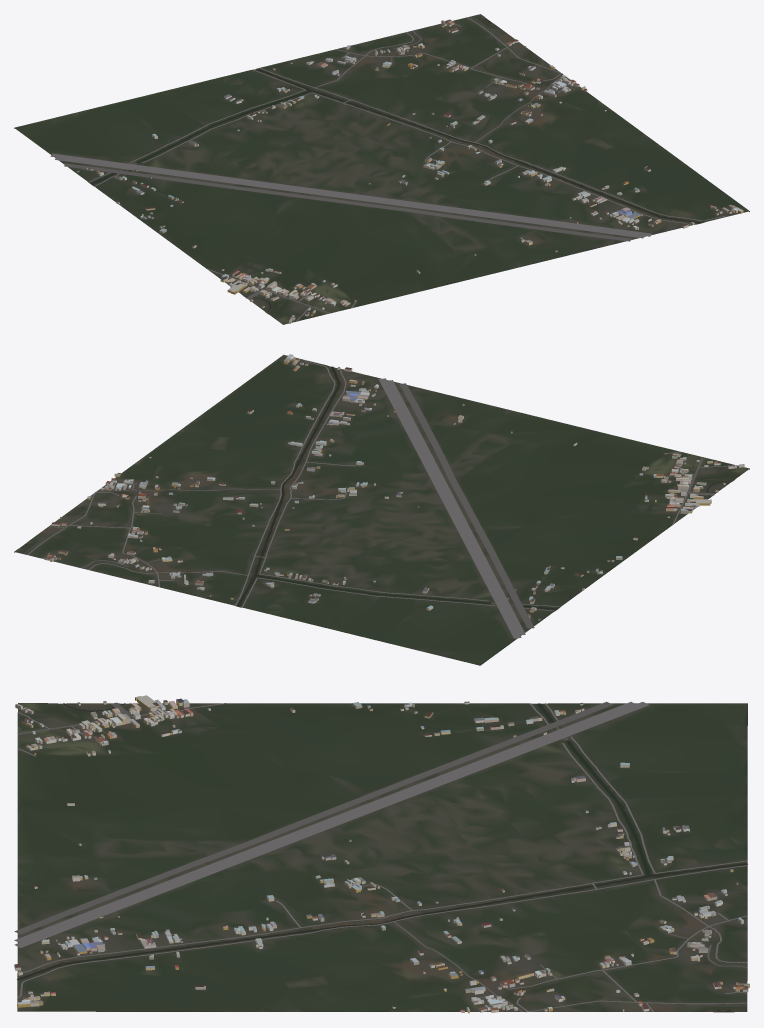
The picture shows the model from 3 angles, top to bottom: view 1: azimuth 30°, elevation 25°; view 2: azimuth 150°, elevation 25°; view 3: azimuth 270°, elevation 25°; orthographic projection. The views are drawn at different scales.
Visible parts, largest first — view 1: ground, roads, buildings, water; view 2: ground, roads, buildings, water; view 3: ground, roads, buildings, water.
Part boxes in pixels (box(x1,y1,x2,y2)): ground: box(14, 14, 749, 324); roads: box(50, 17, 728, 321); buildings: box(76, 19, 743, 323); water: box(91, 18, 701, 312); ground: box(14, 354, 749, 665); roads: box(27, 360, 732, 638); buildings: box(44, 354, 744, 620); water: box(21, 366, 732, 609); ground: box(17, 703, 747, 1012); roads: box(14, 701, 747, 1012); buildings: box(14, 695, 749, 1013); water: box(17, 703, 747, 1011).
Bounding box in the file's own units: 1431 × 15.93 × 1412.
